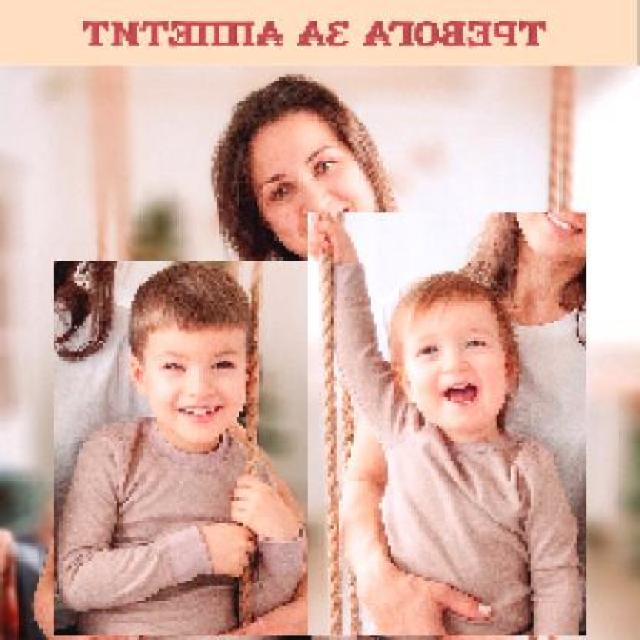child: (306, 212, 586, 637), (52, 260, 308, 637)
